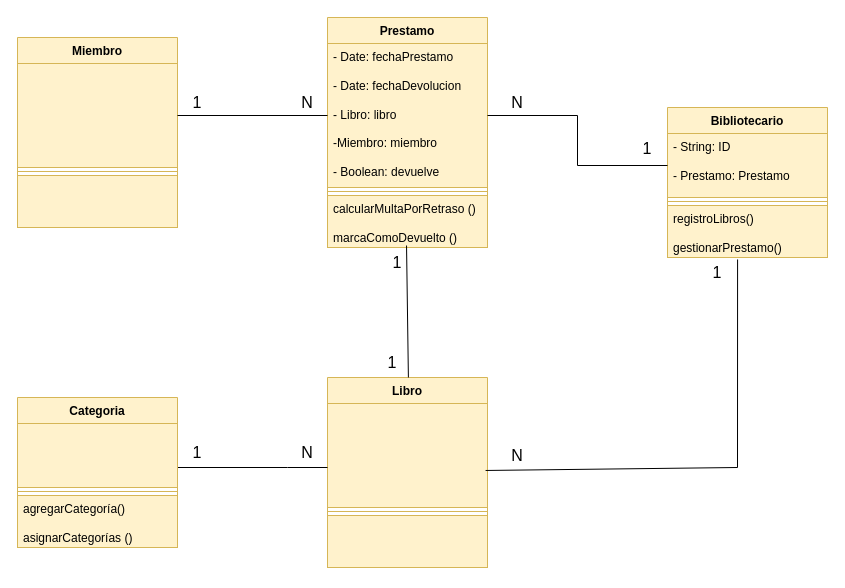
Image size: 845x588. Some labels were removed from this diagram. Here are the shapes that lost their labels. From the top down, the centre of each, then its label:
the point at 97,115: - String: Nombre - String: ID de miembro + integer: Historial de préstamos
the point at 97,201: registrarMiembro () verHistorial ()
the point at 97,455: - String: nombre - String: descripcion
the point at 407,455: - String: Título - String: Autor - String: ISBN - String: Categoría
the point at 407,541: verificarDisponibilidad asignarCategorías
